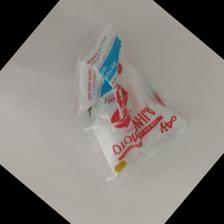Ajinomoto: (61, 20, 190, 188)
